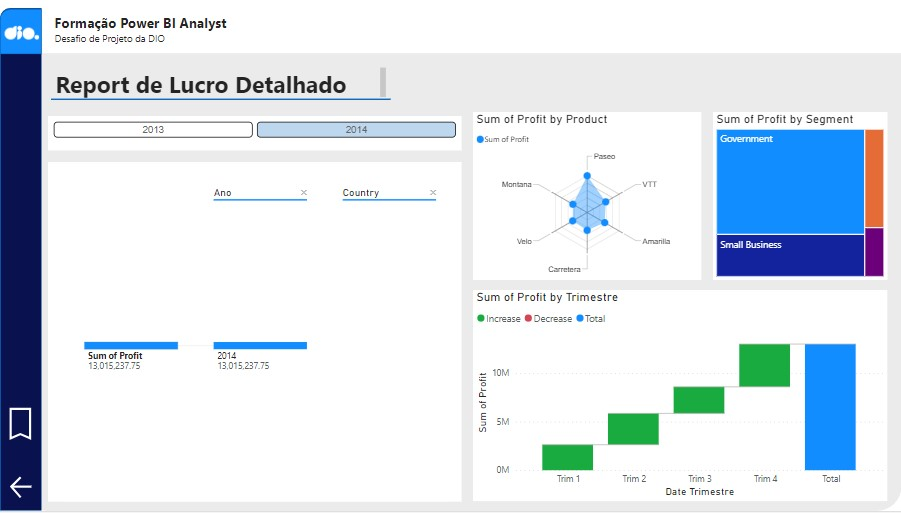

The dashboard page shown, as its layout file describes it:
{"tool":"powerbi","page":{"name":"Página 2","canvas":[1280,720],"ordinal":1},"visuals":[{"type":"shape","box":[42.6,20.7,1225.3,699.3],"z":0},{"type":"shape","box":[83.9,127.8,473,37.1],"z":0,"group":"g1"},{"type":"textbox","box":[85.3,97.6,470.2,52.2],"z":1000,"group":"g1"},{"type":"shape","box":[12.4,20.2,57.7,699.8],"z":1000},{"type":"shape","box":[12.4,20.6,57.7,63.2],"z":2000},{"type":"image","box":[13.7,33,57.7,39.9],"z":3000},{"type":"shape","title":"Fundo do Título","box":[71.5,20.6,1198.9,61.9],"z":4000},{"type":"textbox","title":"Título do report","box":[83.9,22,378.1,63.2],"z":5000},{"type":"shape","box":[79.7,233.7,576.1,473],"z":6000},{"type":"decompositionTreeVisual","fields":{"Analyze":["Sum(financials.Profit)"],"ExplainBy":["financials.Date.Variation.Hierarquia de datas.Ano1","financials.Country","financials.Date.Variation.Hierarquia de datas.Mês","financials.Date.Variation.Hierarquia de datas.Dia"]},"box":[100.2,251.3,536.5,456],"z":7000},{"type":"waterfallChart","fields":{"Category":["financials.Date.Variation.Hierarquia de datas.Trimestre1"],"Y":["Sum(financials.Profit)"]},"box":[670.9,412.5,577.4,294.2],"z":8000},{"type":"ChicletSlicer1448559807354","fields":{"Category":["financials.Date.Variation.Hierarquia de datas.Ano"]},"box":[79.7,170.5,576.1,48.1],"z":9000},{"type":"RadarChart1446119667547","fields":{"Category":["financials.Product"],"Y":["Sum(financials.Profit)"]},"box":[670.9,165,317.6,233.7],"z":10000},{"type":"treemap","fields":{"Values":["Sum(financials.Profit)"],"Group":["financials.Segment"]},"box":[1005,165,243.4,233.7],"z":11000},{"type":"actionButton","box":[22,666.8,48.1,39.9],"z":12000},{"type":"group","id":"g1","title":"Sales report","box":[83.9,97.6,473,67.4],"z":13000},{"type":"actionButton","box":[12.8,545.8,57,105.5],"z":14000}]}

Visuals, with their boxes on the page's 1280x720 design canvas (x1, y1, x2, y2). These are canvas units, not pixel positions in the 901x513 screenshot, which may show the page scaled, cropped or inside an application window:
shape: [x1=43, y1=21, x2=1268, y2=720]
shape: [x1=84, y1=128, x2=557, y2=165]
textbox: [x1=85, y1=98, x2=556, y2=150]
shape: [x1=12, y1=20, x2=70, y2=720]
shape: [x1=12, y1=21, x2=70, y2=84]
image: [x1=14, y1=33, x2=71, y2=73]
"Fundo do Título" shape: [x1=72, y1=21, x2=1270, y2=82]
"Título do report" textbox: [x1=84, y1=22, x2=462, y2=85]
shape: [x1=80, y1=234, x2=656, y2=707]
decompositionTreeVisual - Sum(financials.Profit) x financials.Date.Variation.Hierarquia de datas.Ano1: [x1=100, y1=251, x2=637, y2=707]
waterfallChart - financials.Date.Variation.Hierarquia de datas.Trimestre1 x Sum(financials.Profit): [x1=671, y1=412, x2=1248, y2=707]
ChicletSlicer1448559807354 - financials.Date.Variation.Hierarquia de datas.Ano: [x1=80, y1=170, x2=656, y2=219]
RadarChart1446119667547 - financials.Product x Sum(financials.Profit): [x1=671, y1=165, x2=988, y2=399]
treemap - Sum(financials.Profit) x financials.Segment: [x1=1005, y1=165, x2=1248, y2=399]
actionButton: [x1=22, y1=667, x2=70, y2=707]
"Sales report" group: [x1=84, y1=98, x2=557, y2=165]
actionButton: [x1=13, y1=546, x2=70, y2=651]
